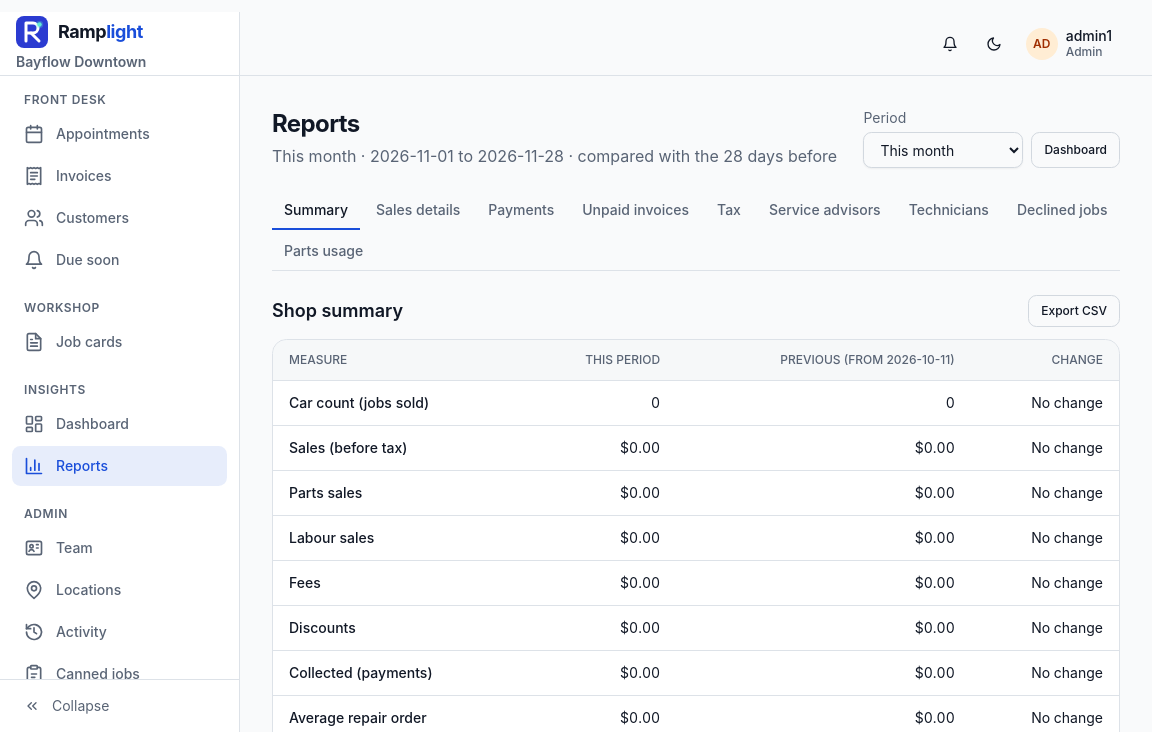
Scenario: reports page (reports phase R1) › switches reports with the tabs
Step 1. Click the tab "Technicians" → [949, 211], box [897,192,1001,230]
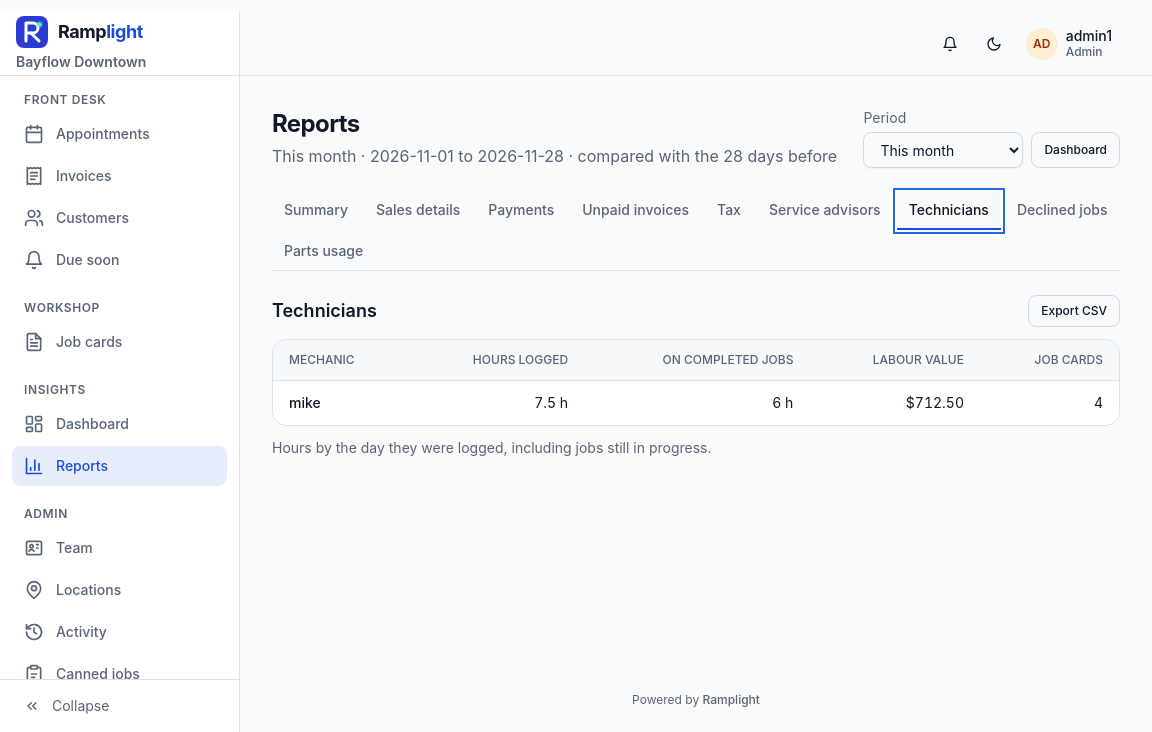
Expected: the text "mike" is shown, [289,394,321,410]
Expected: the text "7.5 h" is shown, [408,380,584,424]
